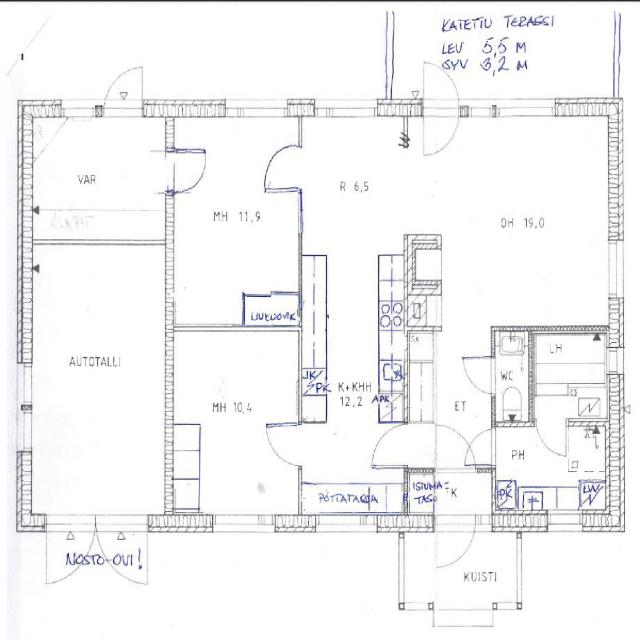door: (96, 514, 148, 593), (46, 514, 96, 593), (436, 514, 476, 580), (105, 54, 142, 115), (423, 98, 459, 158), (423, 55, 459, 115), (436, 420, 476, 472), (166, 151, 208, 192), (263, 424, 302, 466), (264, 146, 302, 187), (370, 424, 408, 465), (535, 421, 566, 462), (462, 429, 495, 464), (462, 357, 494, 393)
